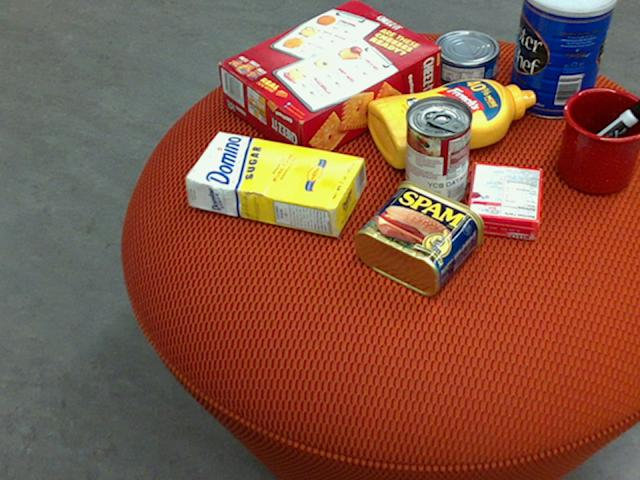cracker_box: (217, 0, 440, 164)
gelatin_box: (466, 163, 543, 241)
large_marker: (560, 97, 639, 172)
master_chef_can: (507, 0, 616, 118)
mug: (557, 86, 639, 194)
mustard_bottle: (367, 79, 535, 167)
potted_meat_can: (354, 179, 483, 295)
sugar_box: (182, 130, 364, 237)
tomato_soup_can: (404, 93, 471, 209)
tuna_fish_can: (429, 30, 499, 85)
